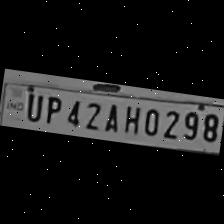0: (138, 103, 162, 136)
2: (158, 104, 180, 140), (80, 96, 103, 130)
4: (61, 94, 85, 128)
8: (198, 109, 222, 143)
9: (179, 106, 201, 140)
A: (100, 99, 123, 133)
H: (118, 100, 142, 134)
P: (41, 91, 64, 124)
U: (22, 88, 44, 122)
